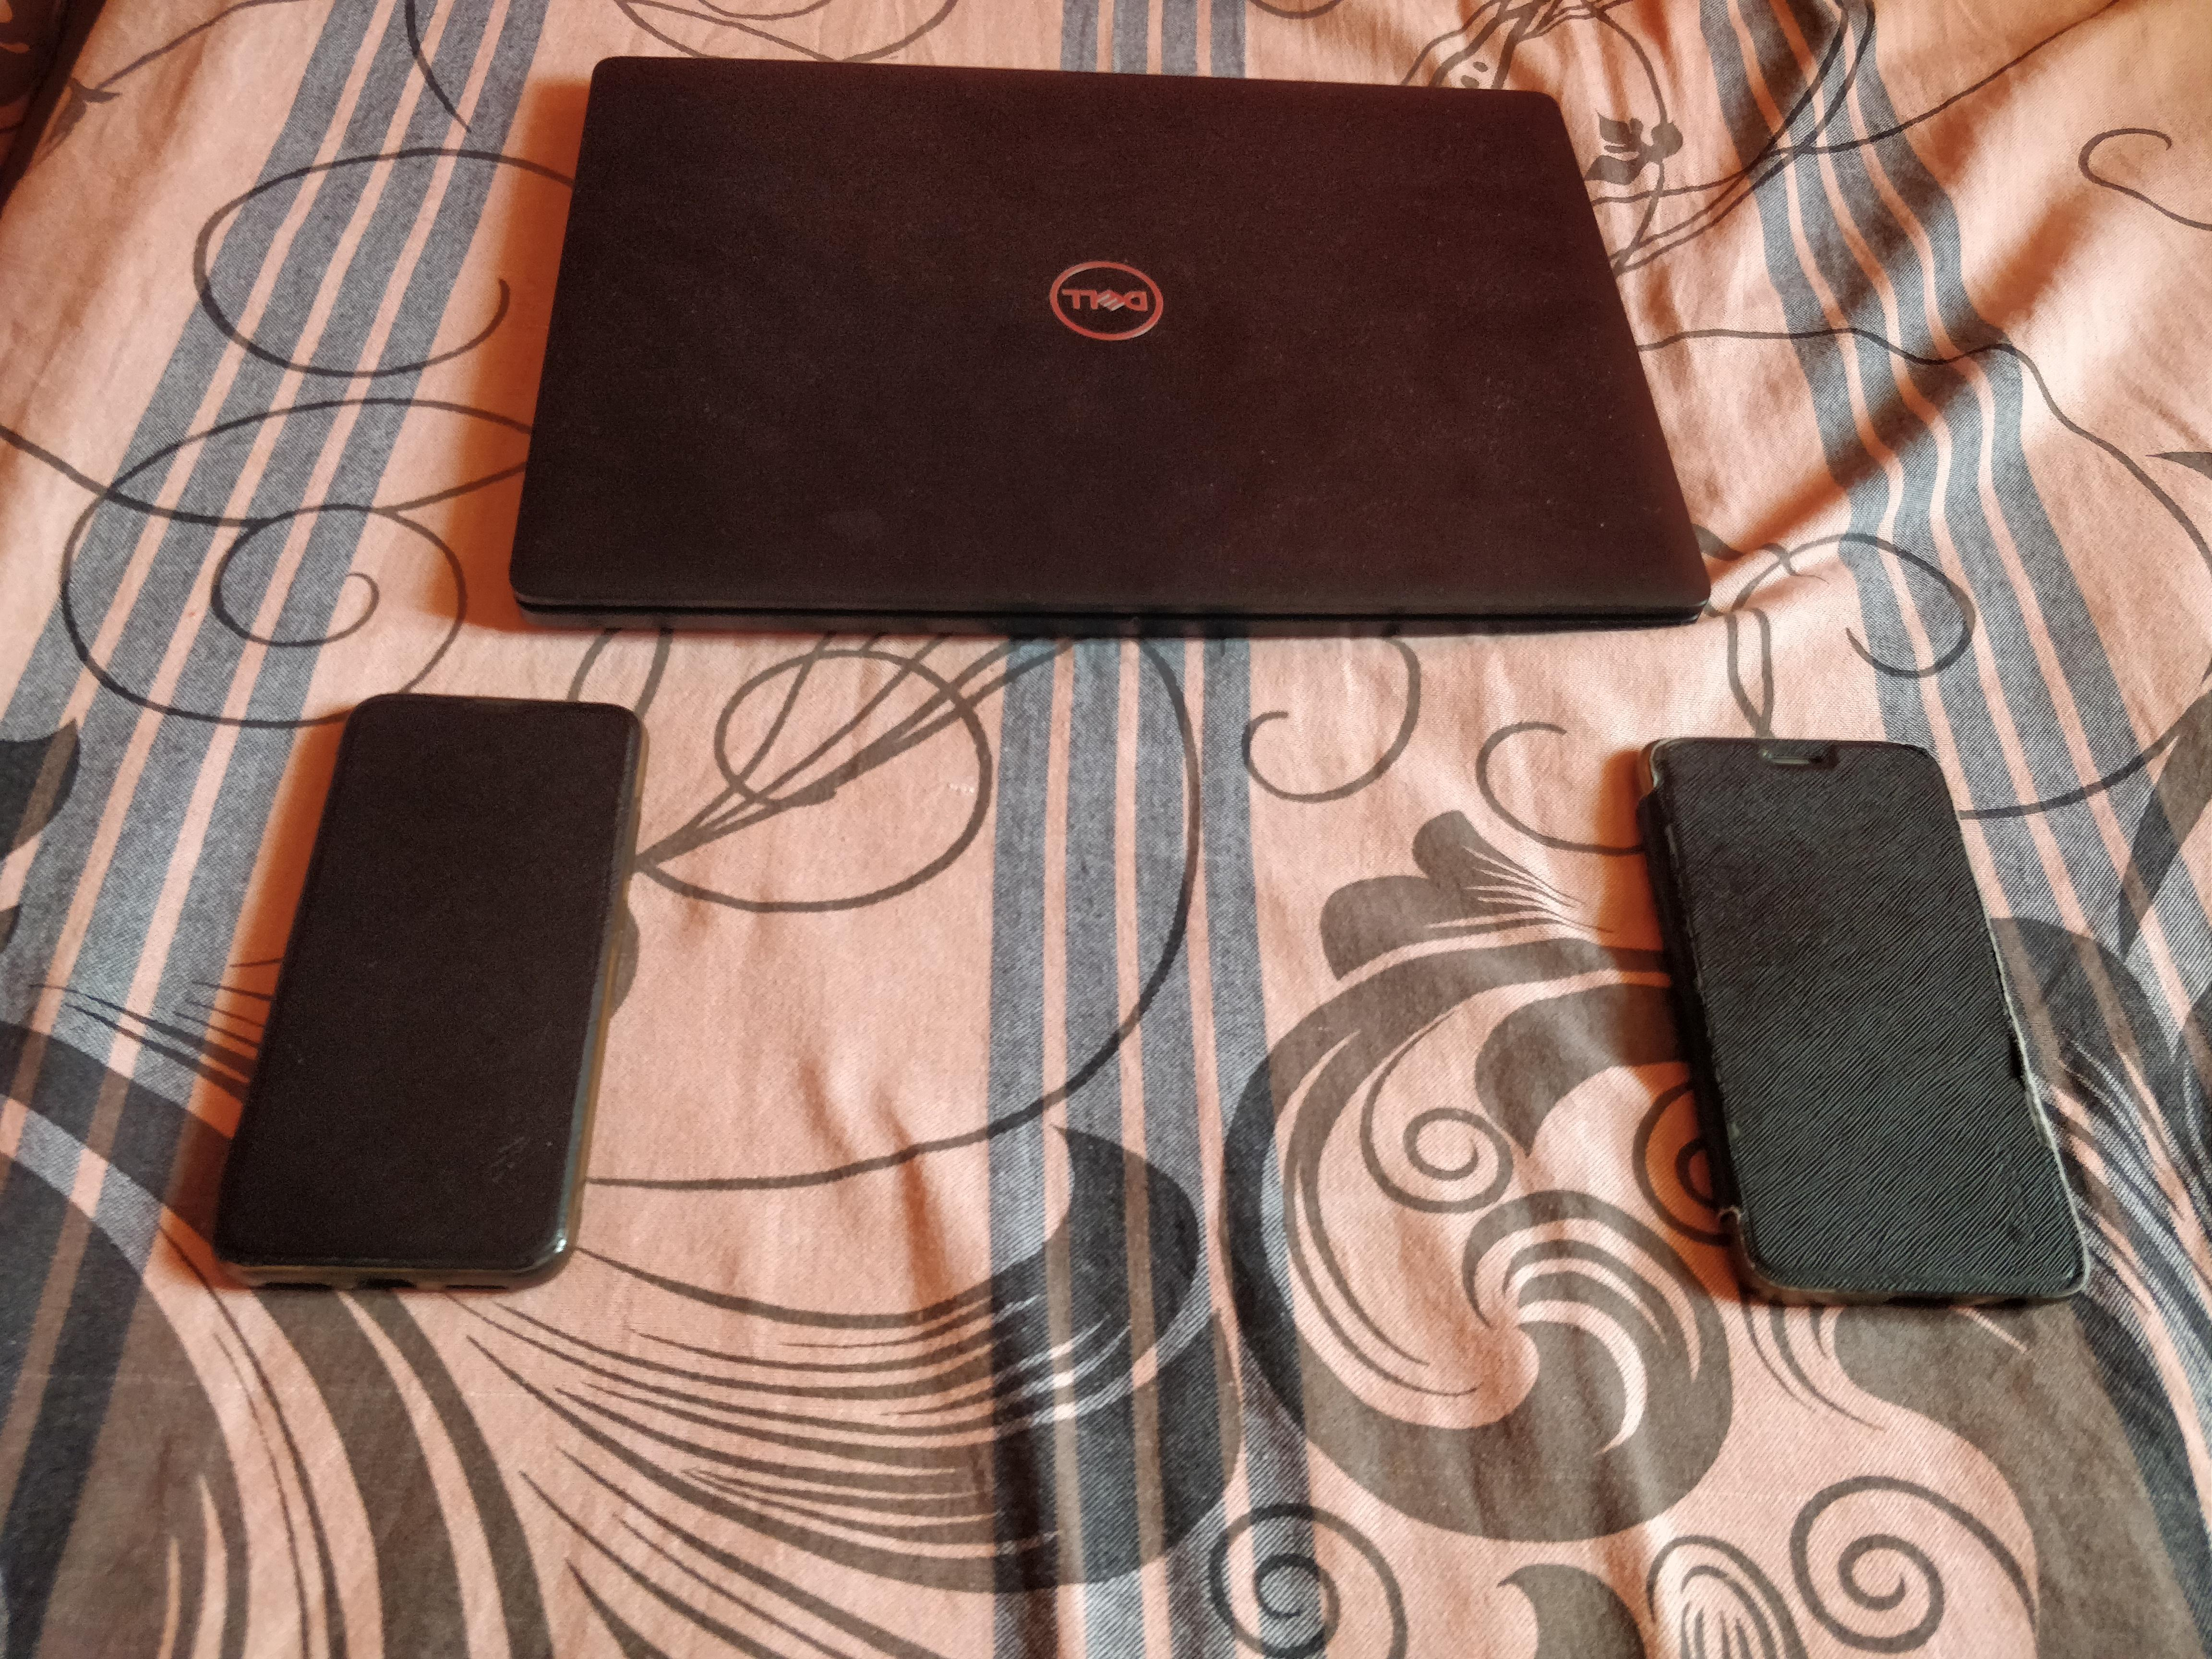Phone: (1601, 708, 2139, 1359), (192, 666, 667, 1342)
laptop: (496, 45, 1754, 666)
